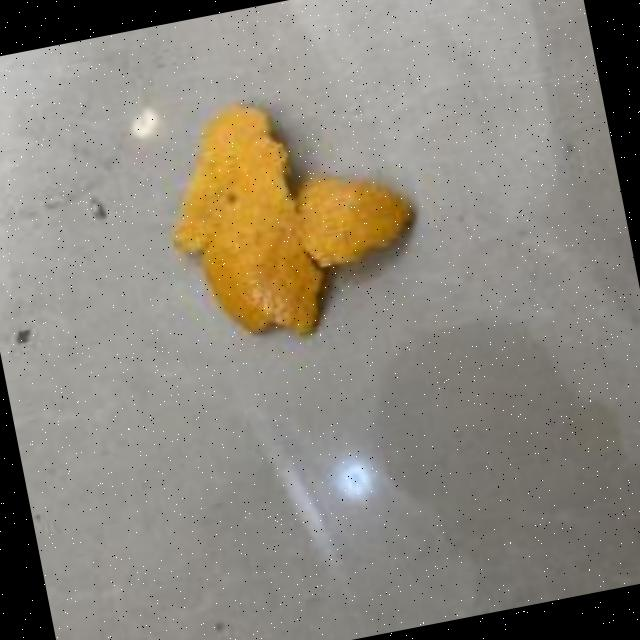orange-peel: (146, 70, 434, 356)
